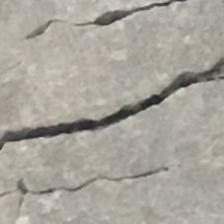Crack: (0, 0, 224, 187)
